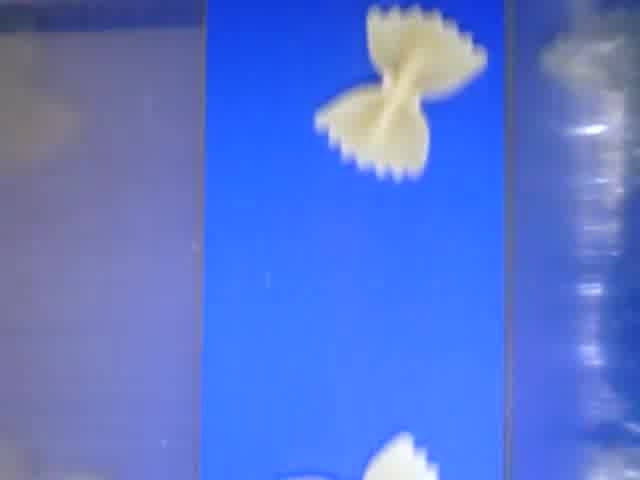farfalle: (313, 8, 487, 182), (360, 432, 438, 480)
